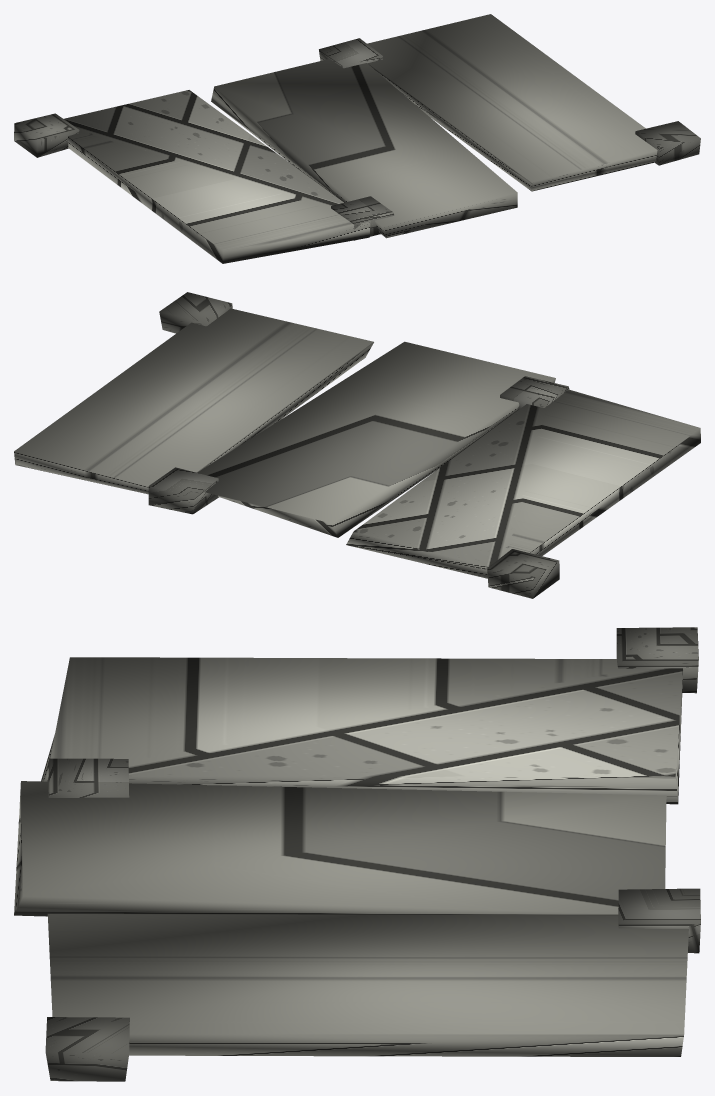
Rendered from slab_path.glb.
The picture shows the model from 3 angles, top to bottom: view 1: azimuth 30°, elevation 25°; view 2: azimuth 150°, elevation 25°; view 3: azimuth 270°, elevation 25°; orthographic projection. The views are drawn at different scales.
Visible parts, largest first — view 1: geometry_0, geometry_1, geometry_2; view 2: geometry_0, geometry_1, geometry_2; view 3: geometry_0, geometry_1, geometry_2.
Part boxes in pixels (<box>): geometry_0: <box>64,14,657,263</box>; geometry_1: <box>211,59,517,238</box>; geometry_2: <box>14,38,700,240</box>; geometry_0: <box>14,308,700,578</box>; geometry_1: <box>197,341,555,537</box>; geometry_2: <box>148,292,569,598</box>; geometry_0: <box>41,657,688,1056</box>; geometry_1: <box>14,781,666,916</box>; geometry_2: <box>45,627,700,1081</box>.
Bounding box in the file's own units: 3.7 × 0.1275 × 2.52.
3 materials, 3 textured.
